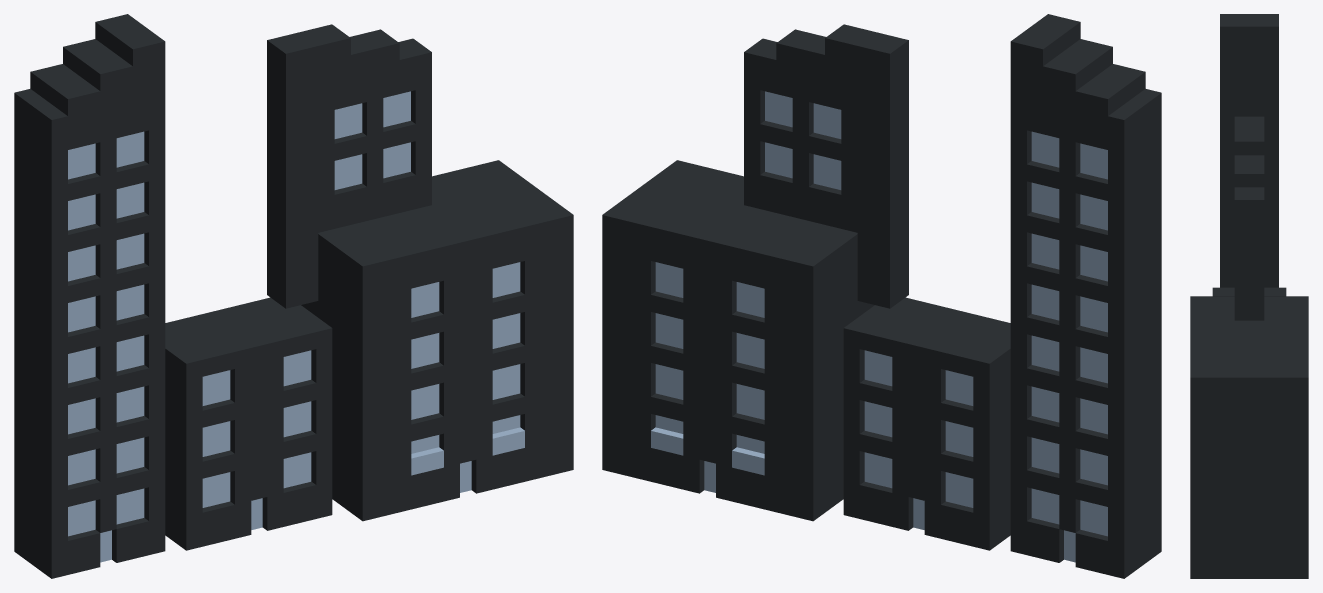
Rendered from City.fbx.
3 renders of one model, left to right at view 1: azimuth 30°, elevation 25°; view 2: azimuth 150°, elevation 25°; view 3: azimuth 270°, elevation 25°, orthographic. The views are drawn at different scales.
Parts seen in each view (by area): view 1: generated; view 2: generated; view 3: generated.
Part boxes in pixels (bbox=[...]): generated: bbox=[14, 14, 573, 578]; generated: bbox=[602, 14, 1161, 578]; generated: bbox=[1190, 14, 1308, 578].
Bounding box in the file's own units: 310 × 300 × 80.
1 material, 1 textured.
